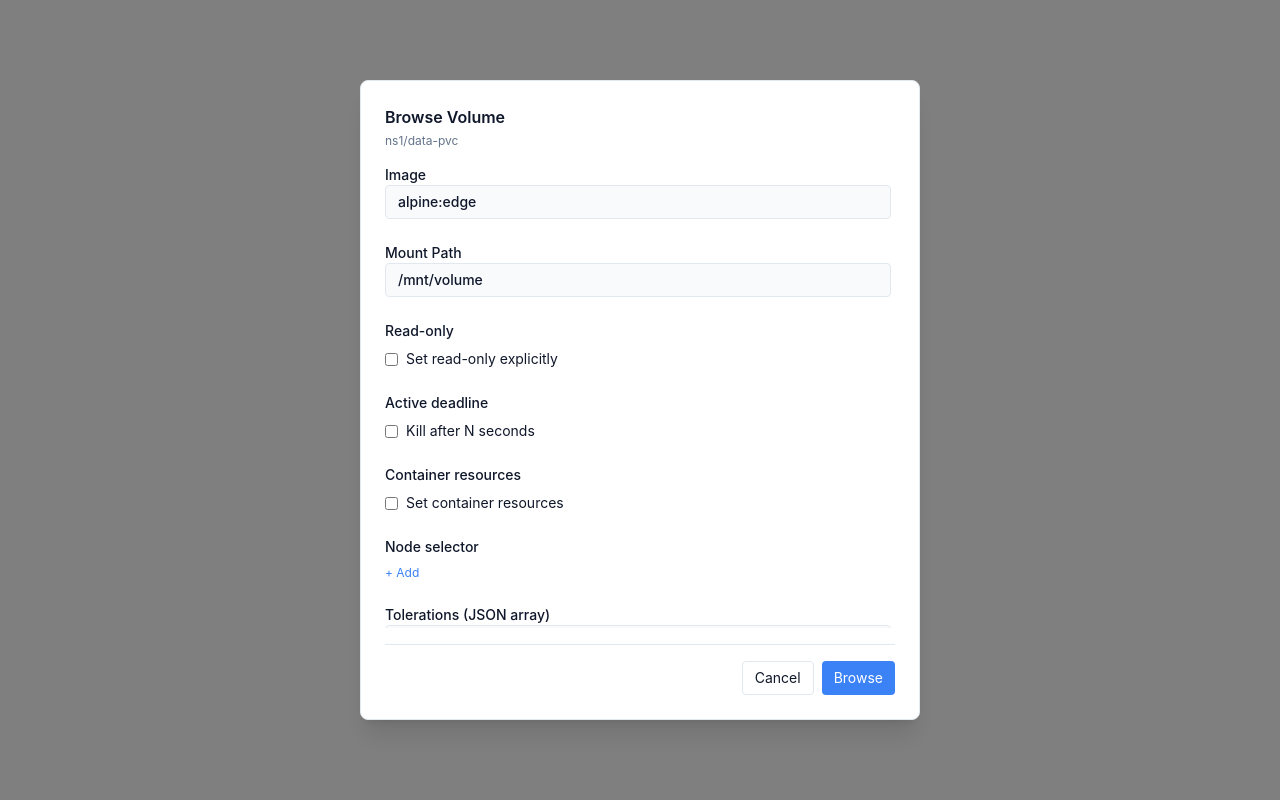
it: VolumeBrowserDialog › disables Browse when mount path is invalid
Type "bad-path" into the field with placeholder "/mnt/volume" at (638, 280), box [385, 263, 891, 297]
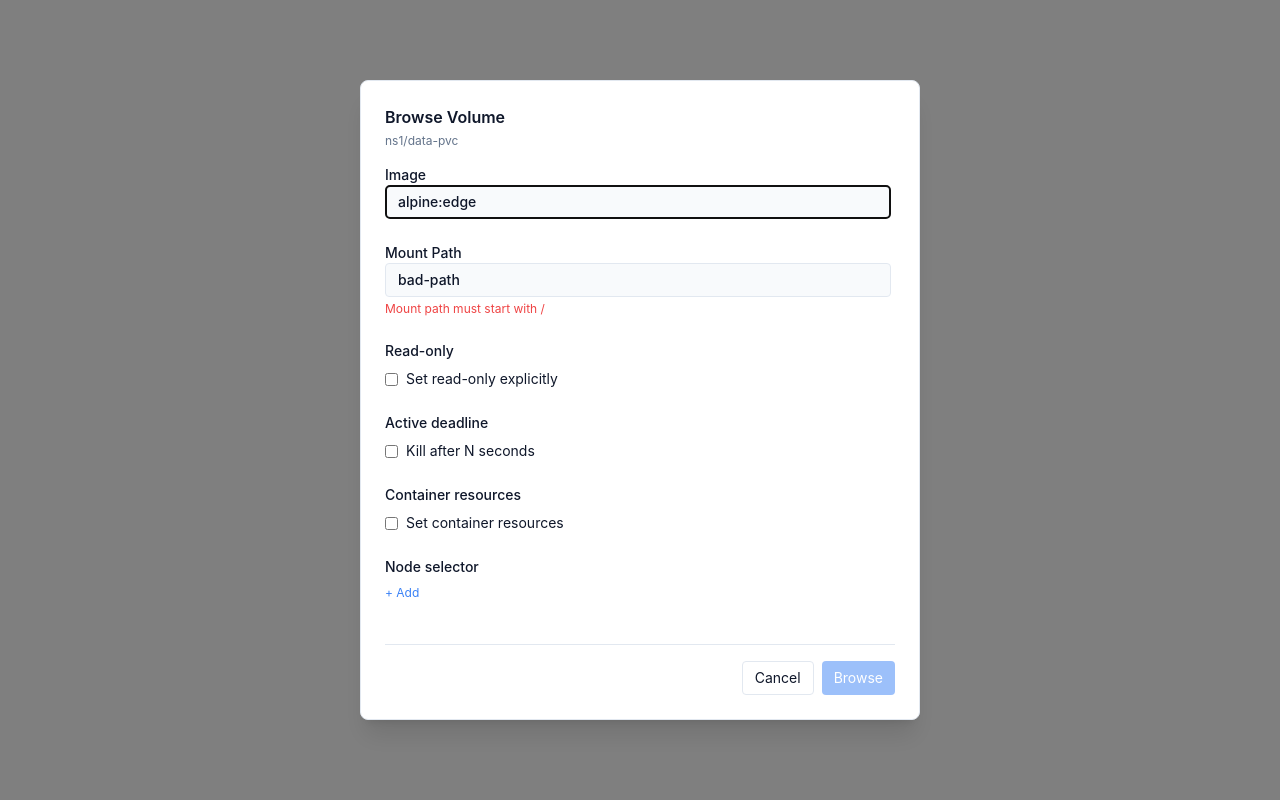
expect the button "Browse" is disabled: met, box [822, 661, 895, 695]
